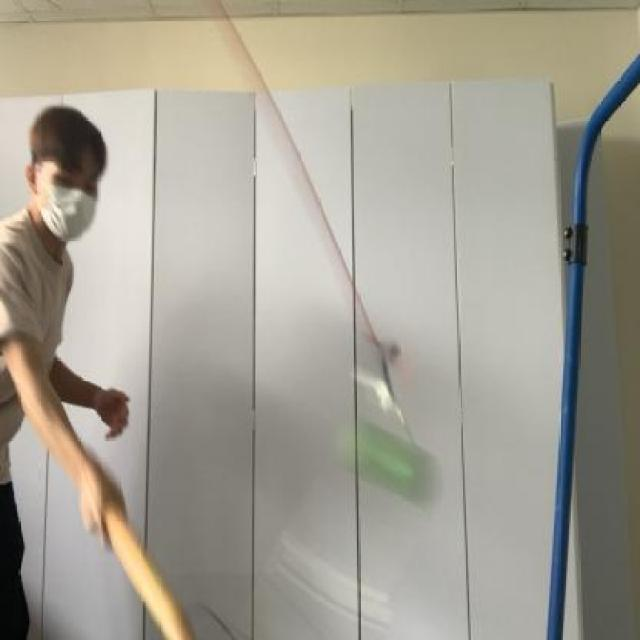baseball: (328, 410, 443, 508)
